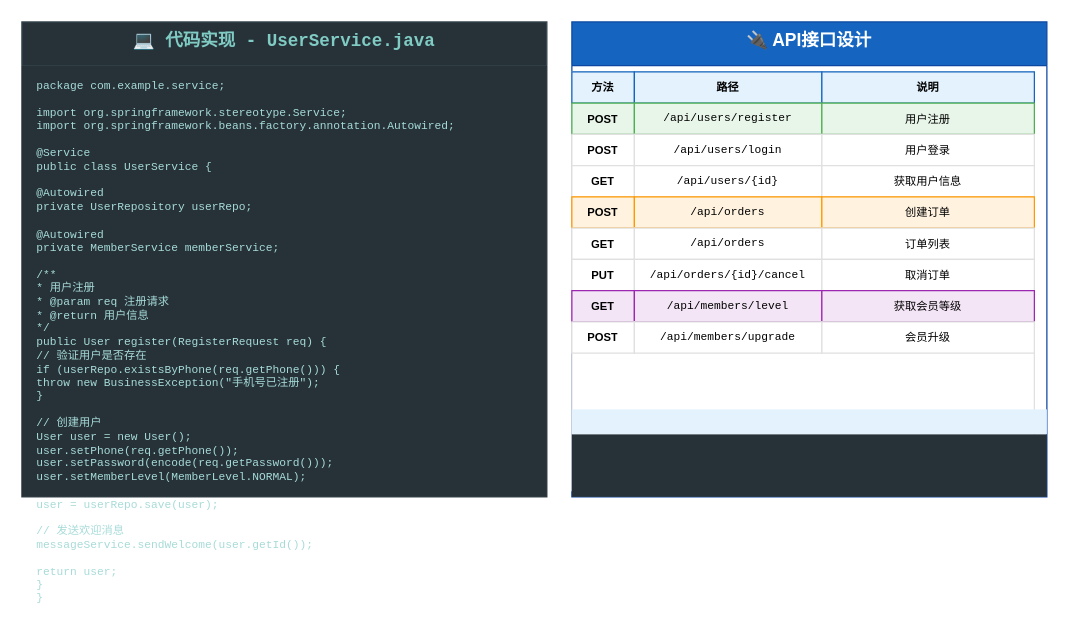
Image size: 1069x629. Some labels were removed from this diagram. The shapes that lost their labels are listed below. From the top down, each one's centre as x and y in pixels, then its label:
point 808,421: 响应格式
point 808,465: {"code": 200, "msg": "success", "data": {...}}
